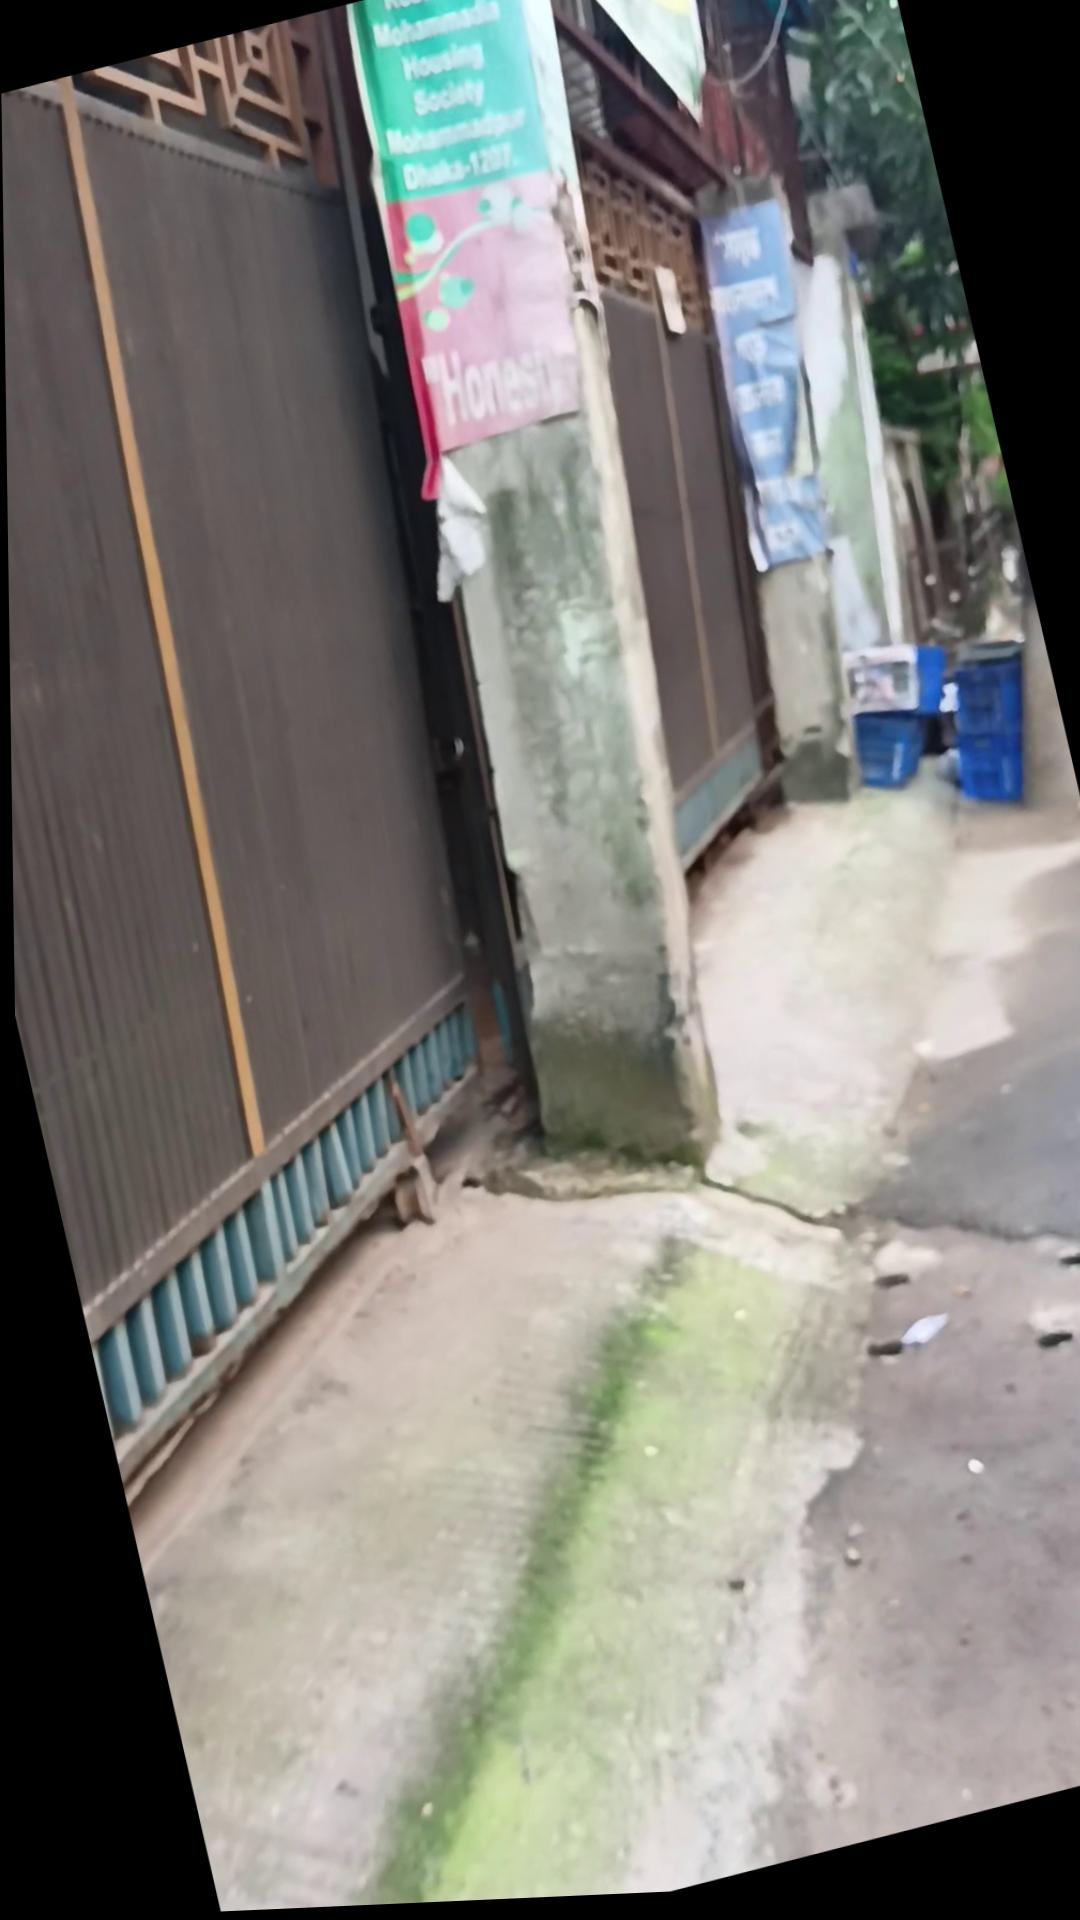Broken-road: (29, 982, 563, 1513)
Cat: (923, 637, 1054, 827), (840, 700, 938, 806)
Garbage: (538, 770, 1080, 1876)
Light-pole: (732, 0, 1038, 682)
